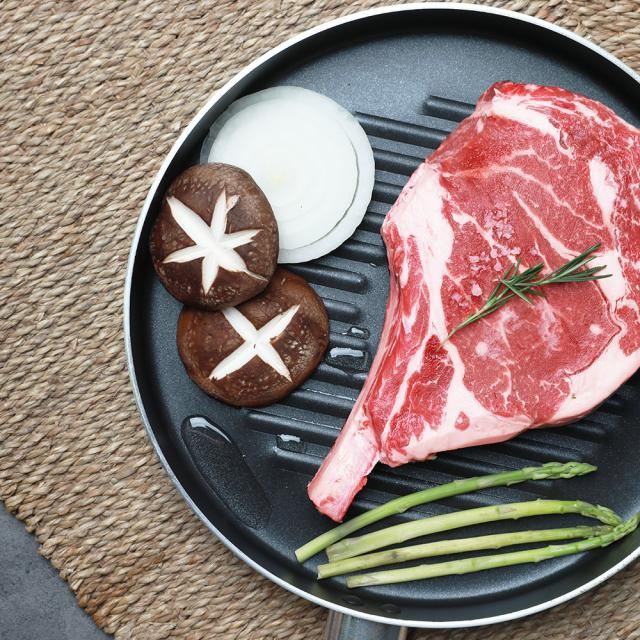beef: (399, 104, 630, 420)
